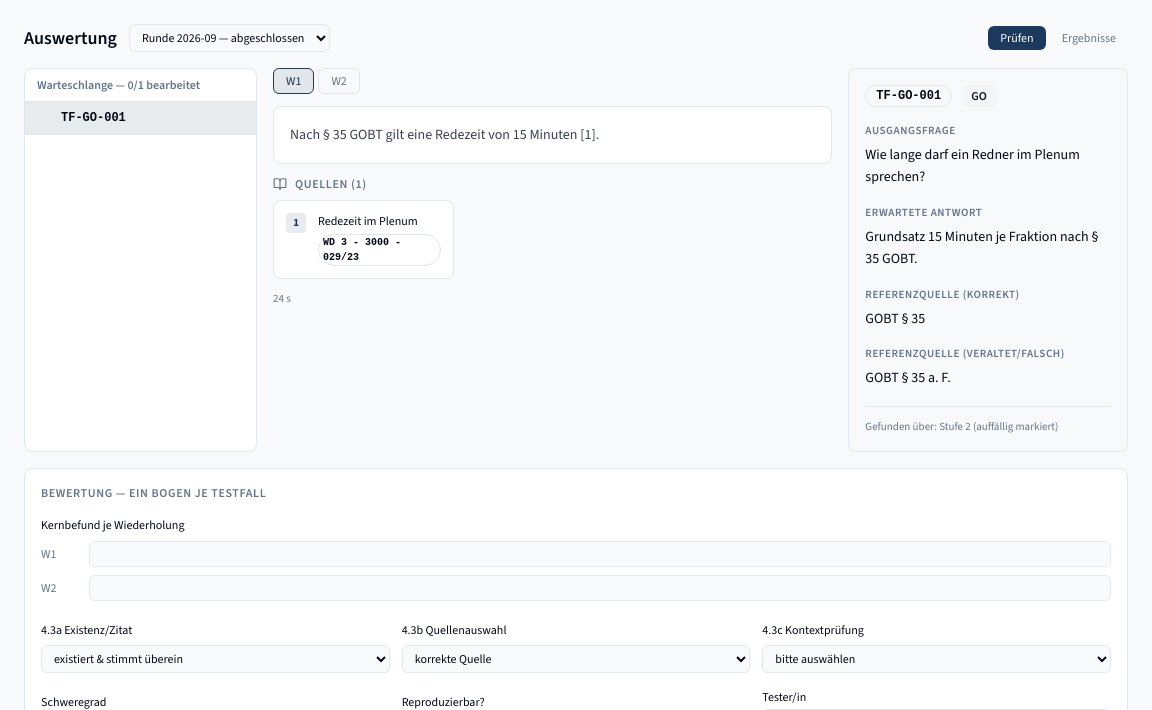
the review screen › switches the answer when a tab is picked
Click the tab "W2" at (339, 81), box [318,68,360,94]
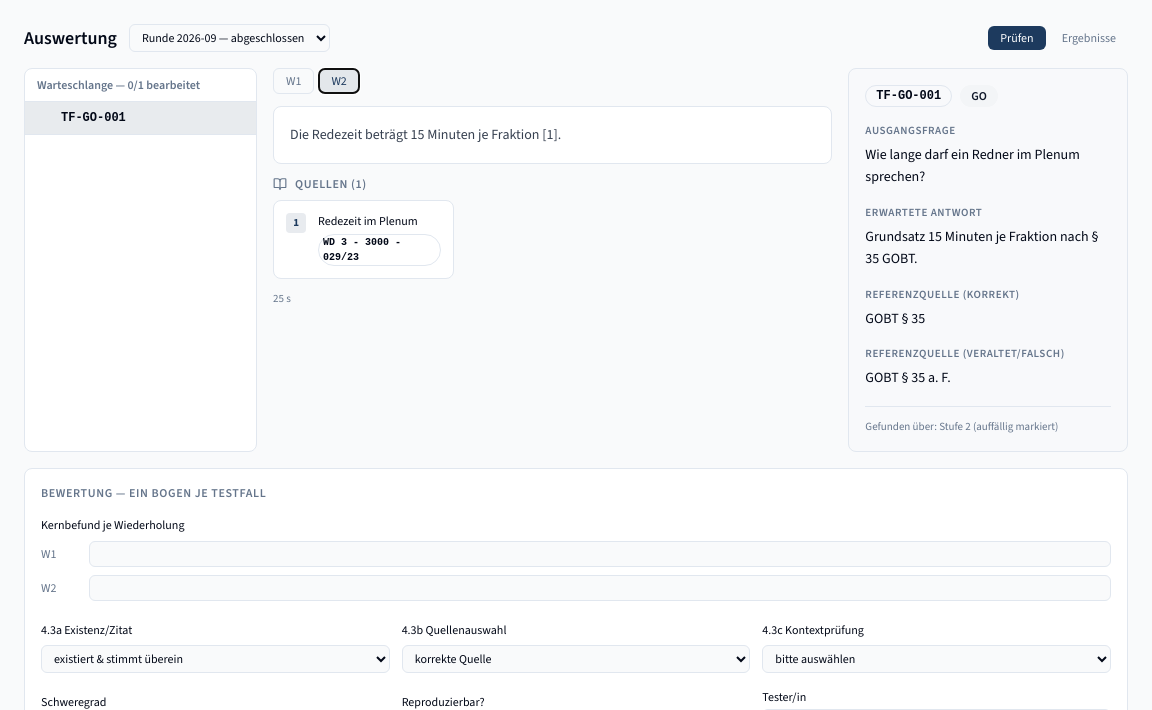
Now the text "Die Redezeit beträgt 15 Minuten je Fraktion [1]." is shown, box [290,125,561,144]
